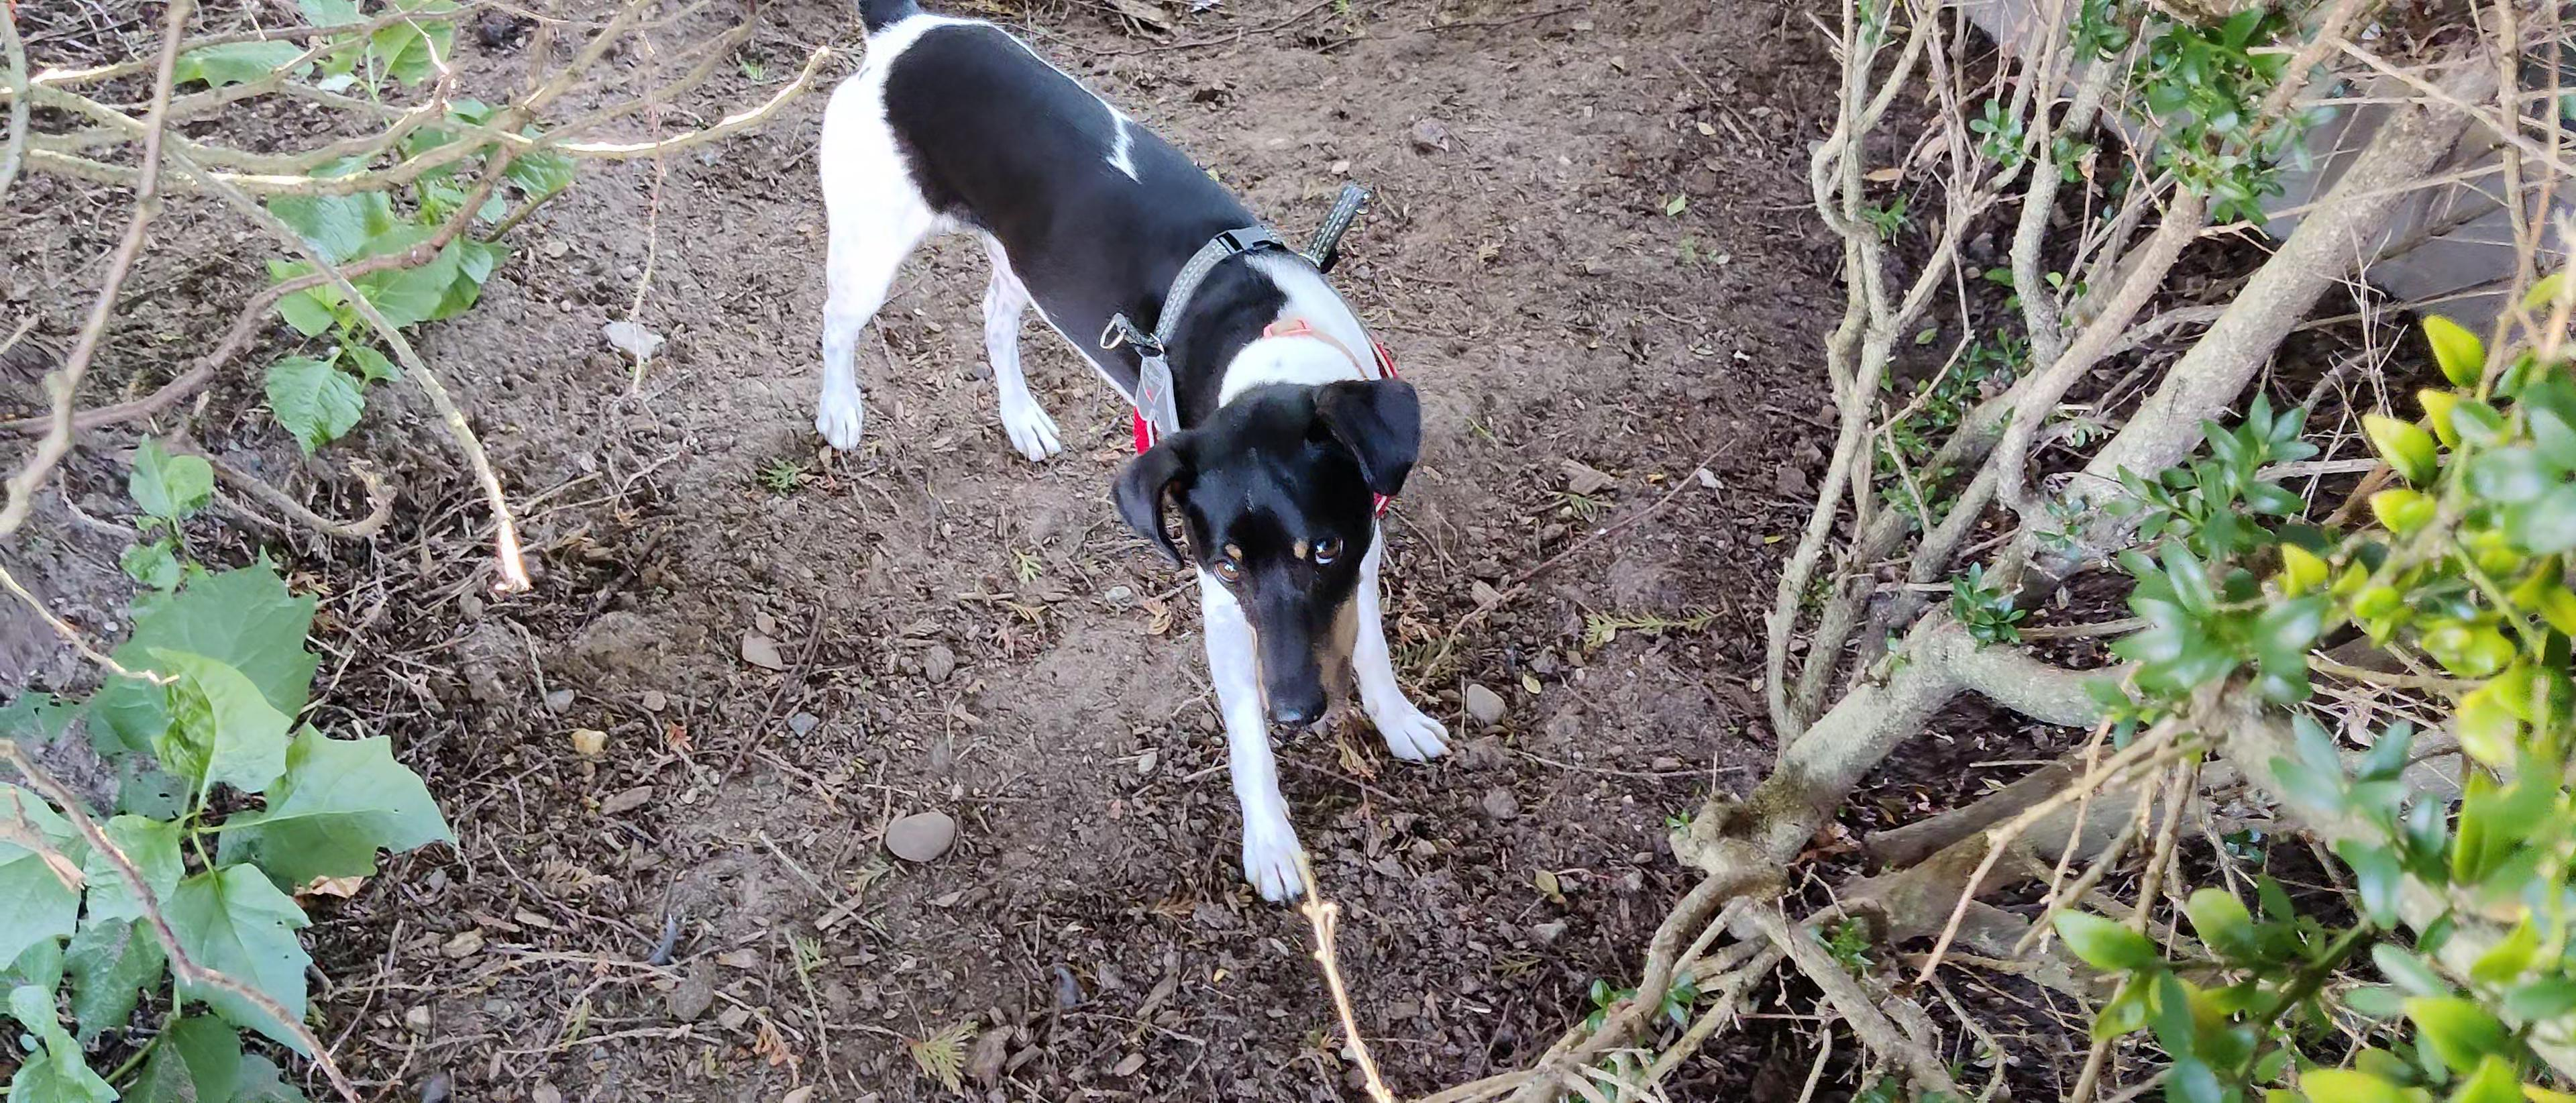Dog: (800, 0, 1459, 921)
